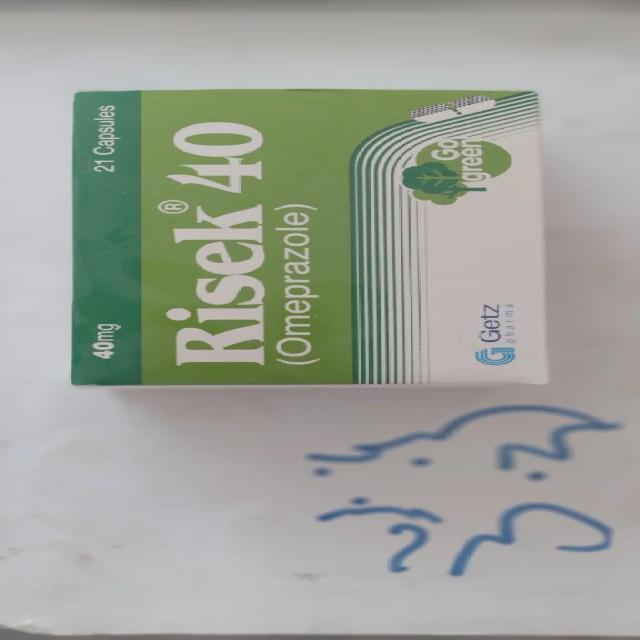drug-name: (150, 114, 266, 369)
